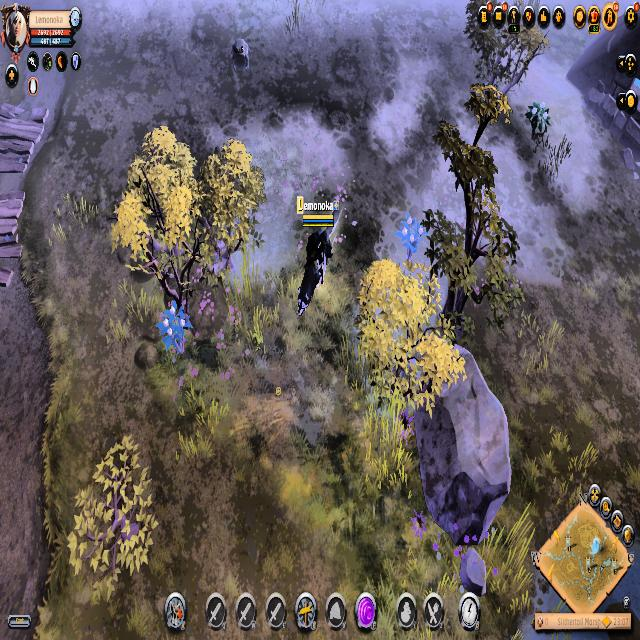fiber tier 3: (523, 99, 553, 144)
fiber tier 4: (156, 299, 195, 359), (396, 210, 427, 266)
